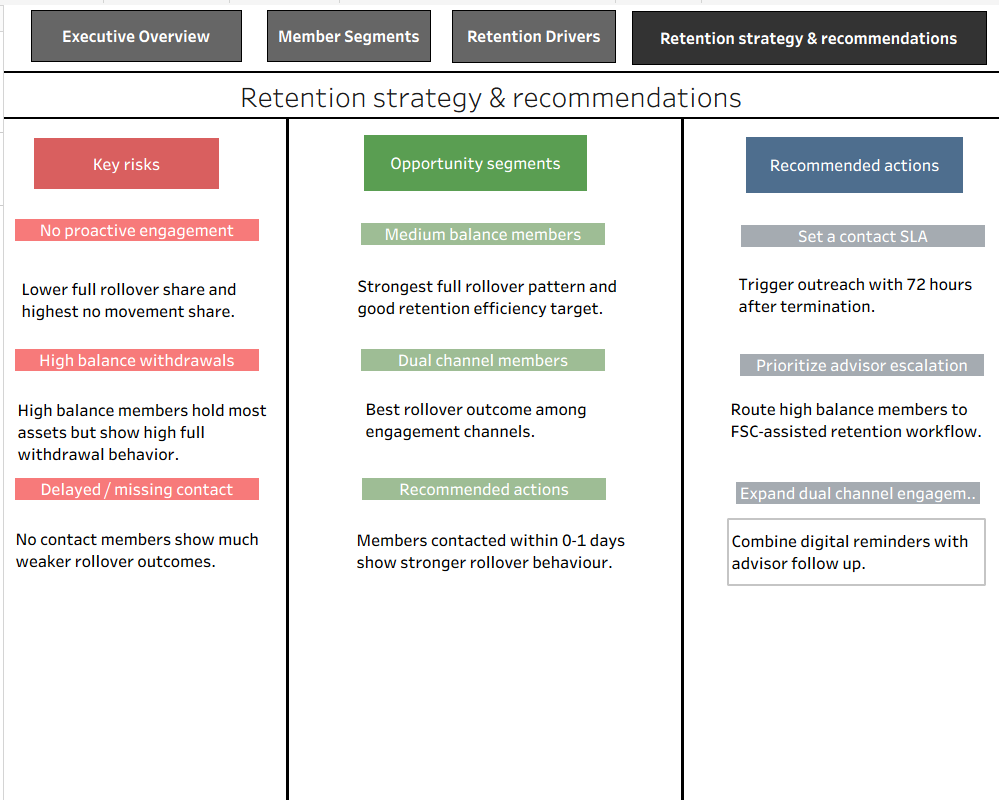

This screenshot's page, from the dashboard's own definition file:
{"tool":"tableau","page":{"name":"Retention strategy & recommendations","canvas":[1000,800],"ordinal":3},"visuals":[{"type":"dashboard-object","box":[27,5,211,52]},{"type":"dashboard-object","box":[263,5,164,52]},{"type":"dashboard-object","box":[448,5,164,53]},{"type":"dashboard-object","box":[628,6,355,54]},{"type":"blank","box":[0,66,999,2]},{"type":"blank","box":[282,113,3,685]},{"type":"blank","box":[677,114,3,685]},{"type":"text","box":[360,130,223,56]},{"type":"text","box":[742,132,217,56]},{"type":"text","box":[30,133,185,51]},{"type":"text","box":[11,214,244,22]},{"type":"text","box":[357,218,244,22]},{"type":"text","box":[737,220,244,22]},{"type":"text","box":[732,258,255,64]},{"type":"text","box":[351,260,287,64]},{"type":"text","box":[15,263,255,64]},{"type":"text","box":[11,344,244,22]},{"type":"text","box":[357,344,244,22]},{"type":"text","box":[736,349,244,22]},{"type":"text","box":[11,375,267,104]},{"type":"text","box":[359,383,255,64]},{"type":"text","box":[724,383,271,64]},{"type":"text","box":[11,473,244,22]},{"type":"text","box":[358,473,244,22]},{"type":"text","box":[732,477,244,22]},{"type":"text","box":[9,513,255,64]},{"type":"text","box":[350,514,279,64]},{"type":"text","box":[725,515,255,64]}]}

Visuals, with their boxes in screenshot pixels (x1, y1, x2, y2), scaled from the page's 1000x800 canvas onto the 999x800 screenshot:
dashboard-object: <bbox>27, 5, 238, 57</bbox>
dashboard-object: <bbox>263, 5, 427, 57</bbox>
dashboard-object: <bbox>448, 5, 611, 58</bbox>
dashboard-object: <bbox>627, 6, 982, 60</bbox>
blank: <bbox>0, 66, 998, 68</bbox>
blank: <bbox>282, 113, 285, 798</bbox>
blank: <bbox>676, 114, 679, 799</bbox>
text: <bbox>360, 130, 582, 186</bbox>
text: <bbox>741, 132, 958, 188</bbox>
text: <bbox>30, 133, 215, 184</bbox>
text: <bbox>11, 214, 255, 236</bbox>
text: <bbox>357, 218, 600, 240</bbox>
text: <bbox>736, 220, 980, 242</bbox>
text: <bbox>731, 258, 986, 322</bbox>
text: <bbox>351, 260, 637, 324</bbox>
text: <bbox>15, 263, 270, 327</bbox>
text: <bbox>11, 344, 255, 366</bbox>
text: <bbox>357, 344, 600, 366</bbox>
text: <bbox>735, 349, 979, 371</bbox>
text: <bbox>11, 375, 278, 479</bbox>
text: <bbox>359, 383, 613, 447</bbox>
text: <bbox>723, 383, 994, 447</bbox>
text: <bbox>11, 473, 255, 495</bbox>
text: <bbox>358, 473, 601, 495</bbox>
text: <bbox>731, 477, 975, 499</bbox>
text: <bbox>9, 513, 264, 577</bbox>
text: <bbox>350, 514, 628, 578</bbox>
text: <bbox>724, 515, 979, 579</bbox>
